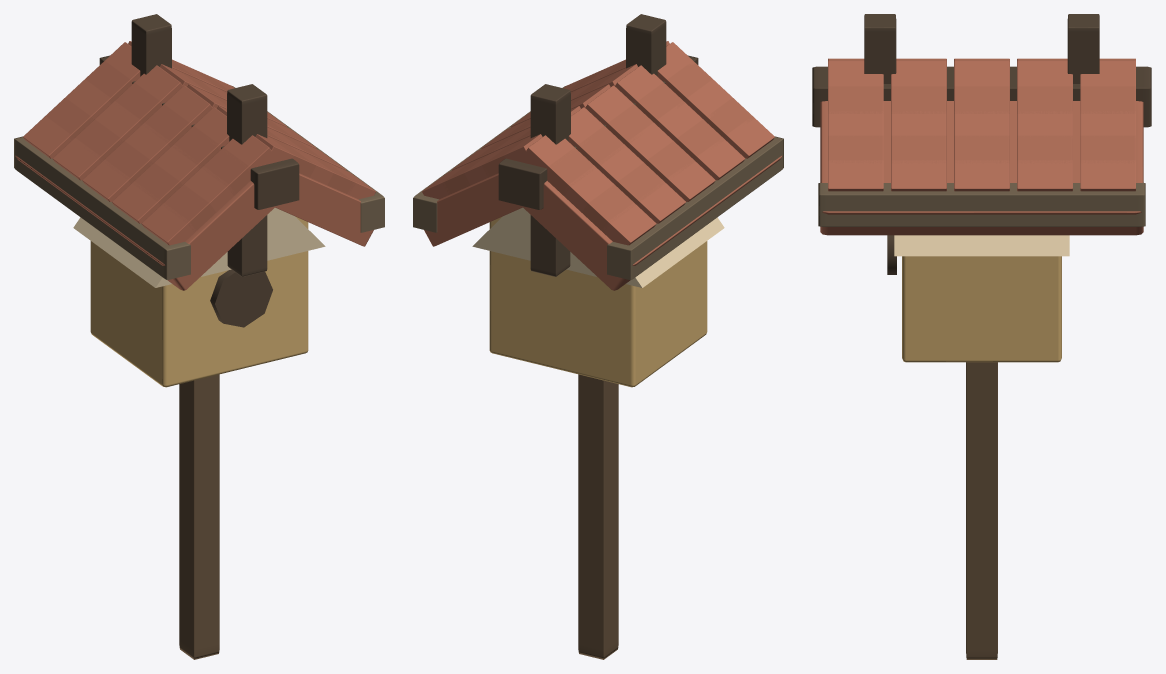
The model's file is birdhouse-0.glb.
3 views of the same model, side by side, from view 1: azimuth 30°, elevation 25°; view 2: azimuth 150°, elevation 25°; view 3: azimuth 270°, elevation 25° (orthographic). The views are drawn at different scales.
Visible parts, largest first — view 1: birdhouse-0-0; view 2: birdhouse-0-0; view 3: birdhouse-0-0.
Boxes of the visible parts, x1=… form: birdhouse-0-0: x1=14, y1=14, x2=384, y2=659; birdhouse-0-0: x1=413, y1=14, x2=783, y2=659; birdhouse-0-0: x1=812, y1=14, x2=1151, y2=659.
Size of the model in its own units: 0.6786 by 1.75 by 0.85.
